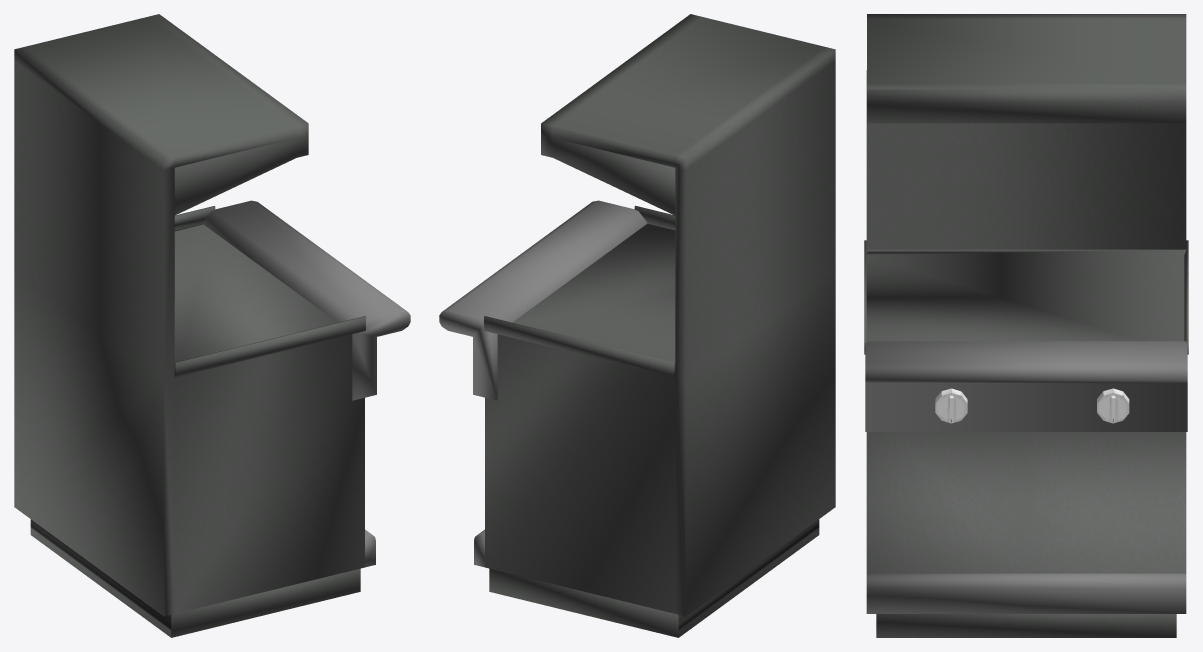
File: griddle.gltf
3 renders of one model, left to right at view 1: azimuth 30°, elevation 25°; view 2: azimuth 150°, elevation 25°; view 3: azimuth 270°, elevation 25°, orthographic. The views are drawn at different scales.
Visible parts, largest first — view 1: griddle; view 2: griddle; view 3: griddle, dial2_002, dial1_001.
Boxes of the visible parts, x1=… form: griddle: x1=14, y1=14, x2=410, y2=637; griddle: x1=439, y1=14, x2=835, y2=637; griddle: x1=864, y1=14, x2=1188, y2=637; dial2_002: x1=1097, y1=388, x2=1129, y2=423; dial1_001: x1=935, y1=388, x2=967, y2=423.
Bounding box in the file's own units: 1.67 × 3.15 × 1.78.
4 materials, 3 textured.
